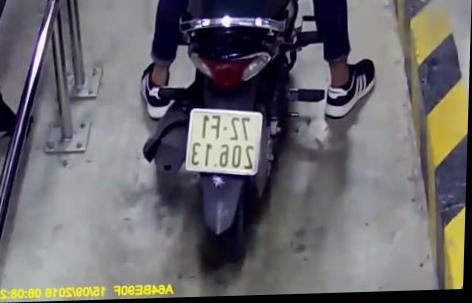License_Plate: (177, 106, 269, 185)
